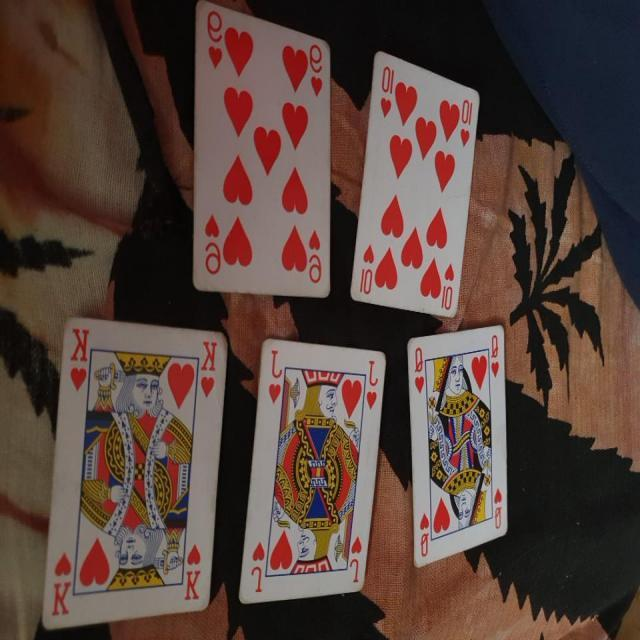10 of hearts: (346, 53, 488, 331)
9 of hearts: (194, 8, 334, 313)
jack of hearts: (226, 330, 386, 614)
king of hearts: (38, 311, 233, 629)
queen of hearts: (399, 322, 511, 574)
